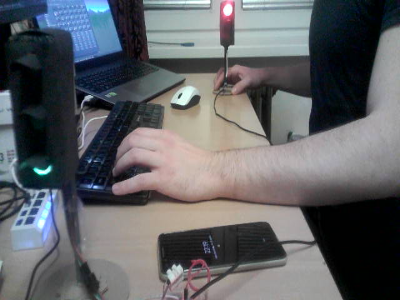trafficlight_green: (14, 37, 69, 184)
trafficlight_red: (220, 1, 235, 47)
